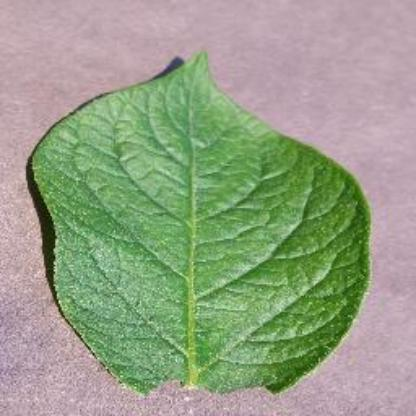Healthy-plant: (20, 52, 374, 406)
